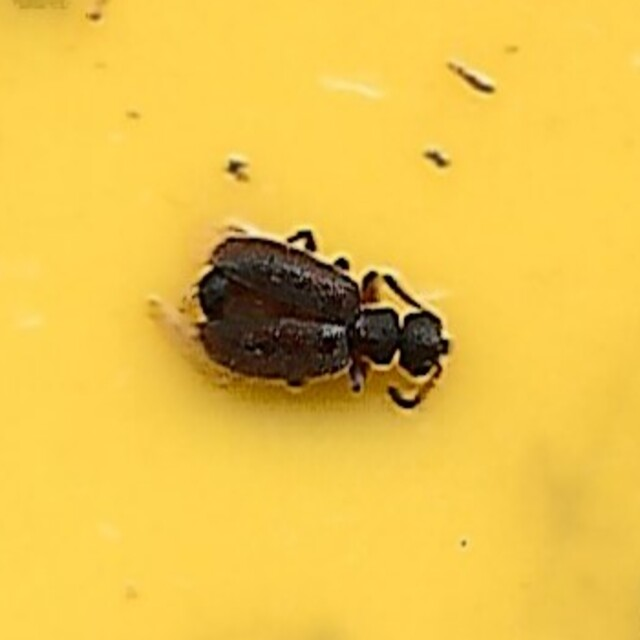Coleoptera: (183, 221, 457, 419)
